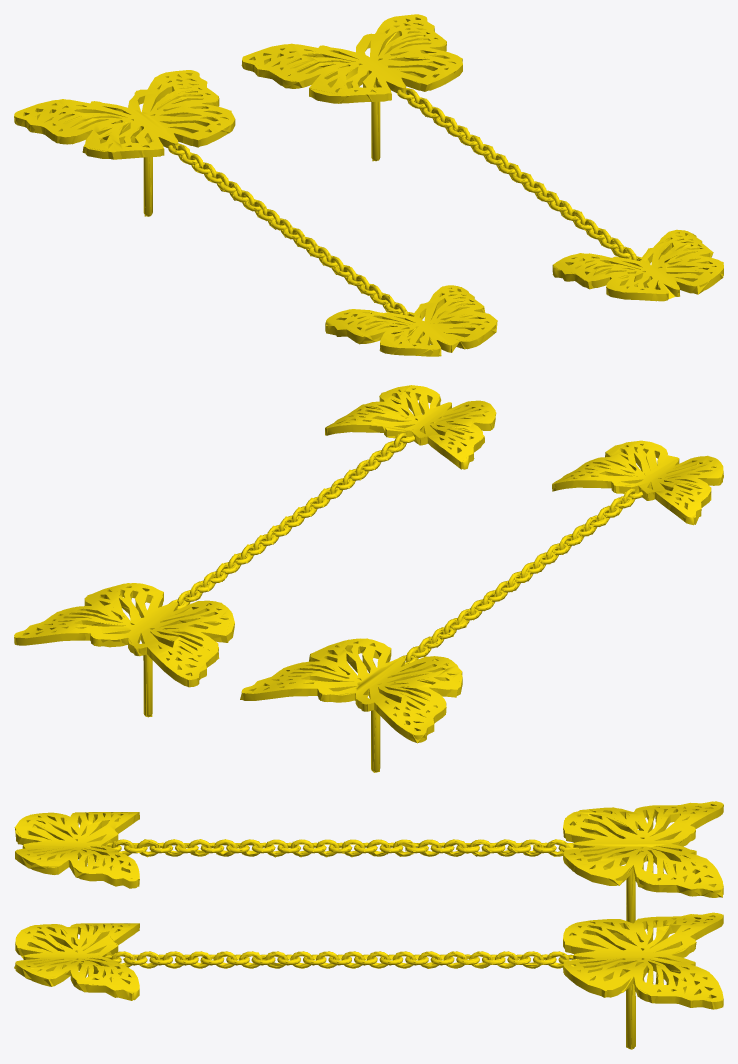
File: GP-SAD0003035.glb
3 renders of one model, top to bottom at view 1: azimuth 30°, elevation 25°; view 2: azimuth 150°, elevation 25°; view 3: azimuth 270°, elevation 25°, orthographic.
Visible parts, largest first — view 1: highPolyMesh, lowPolyMesh; view 2: highPolyMesh, lowPolyMesh; view 3: highPolyMesh, lowPolyMesh.
Boxes of the visible parts, x1,y1,x2,y2 form: highPolyMesh: (14, 14, 723, 356); lowPolyMesh: (14, 14, 723, 356); highPolyMesh: (14, 385, 723, 772); lowPolyMesh: (14, 385, 723, 772); highPolyMesh: (15, 801, 723, 1049); lowPolyMesh: (14, 801, 723, 1049).
Bounding box in the file's own units: 0.0412 × 0.00967 × 0.0615.
